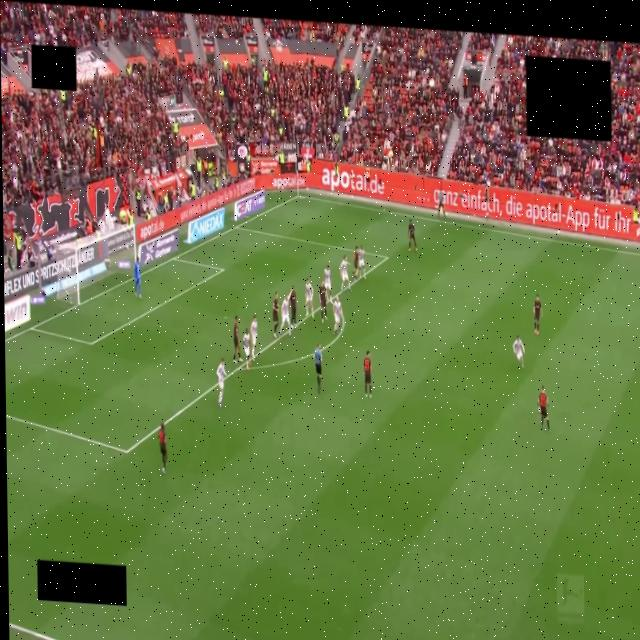player: (537, 387, 550, 431), (279, 296, 291, 337), (158, 423, 167, 473), (217, 358, 226, 407), (363, 350, 372, 398), (233, 316, 242, 363), (340, 255, 351, 292), (533, 296, 542, 335), (333, 296, 342, 334), (513, 336, 524, 367), (319, 281, 327, 323), (289, 286, 297, 327), (305, 278, 313, 317), (408, 219, 417, 251), (243, 328, 250, 369), (134, 257, 141, 297), (251, 316, 257, 360), (324, 265, 331, 301), (273, 291, 278, 338), (358, 246, 365, 277), (353, 246, 359, 279)
referee: (314, 344, 322, 393)
